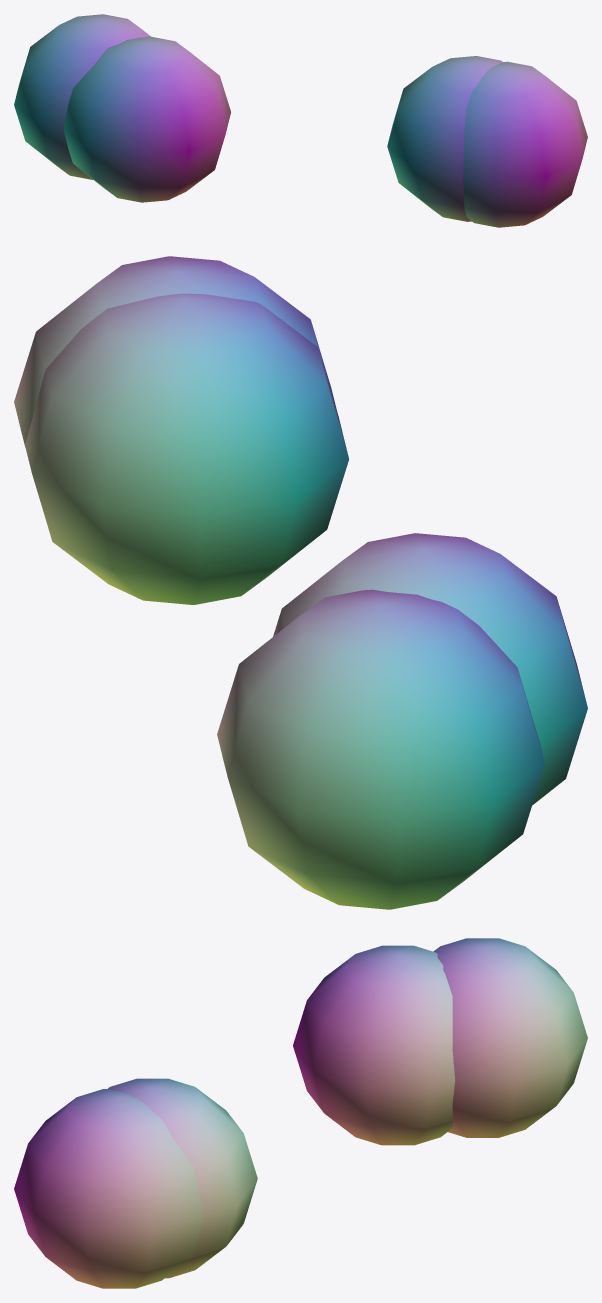
The model's file is env_deco_peas.glb.
The picture shows the model from 3 angles, top to bottom: view 1: azimuth 30°, elevation 25°; view 2: azimuth 150°, elevation 25°; view 3: azimuth 270°, elevation 25°; orthographic projection. The views are drawn at different scales.
Parts seen in each view (by area): view 1: env_deco_peas_mesh; view 2: env_deco_peas_mesh; view 3: env_deco_peas_mesh.
Boxes of the visible parts, x1,y1,x2,y2 form: env_deco_peas_mesh: [14, 14, 587, 227]; env_deco_peas_mesh: [14, 256, 587, 909]; env_deco_peas_mesh: [14, 938, 587, 1288].
Size of the model in its own units: 0.2224 by 0.08 by 0.2291.
